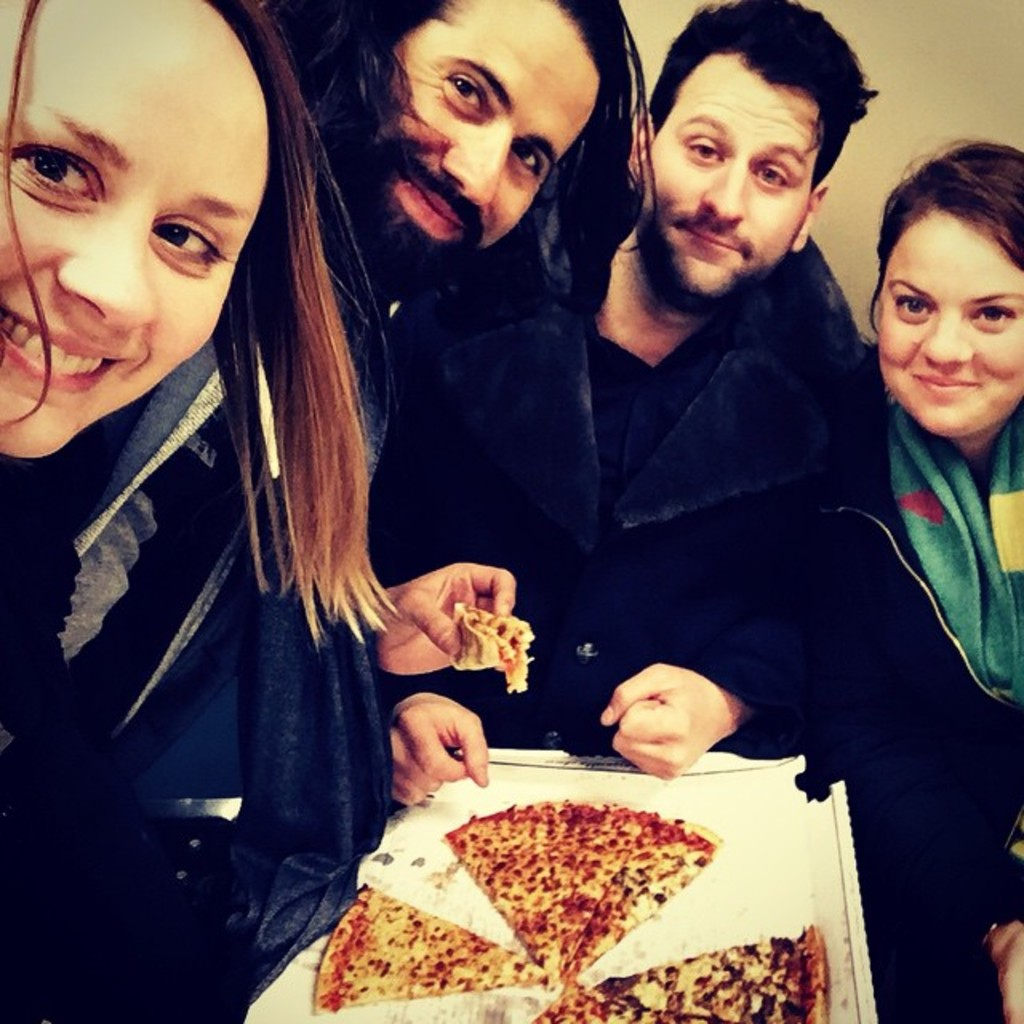Pizza: (348, 764, 796, 1012), (308, 883, 555, 1014), (531, 918, 822, 1022), (451, 596, 531, 691)
